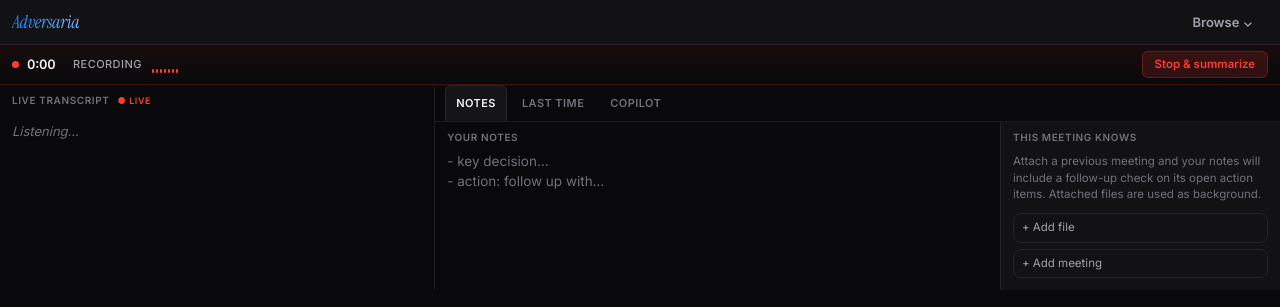
Folder web checkbox › disabled without folder, off by default
Click the tab "Last time" at (553, 103), box [511,85,595,121]
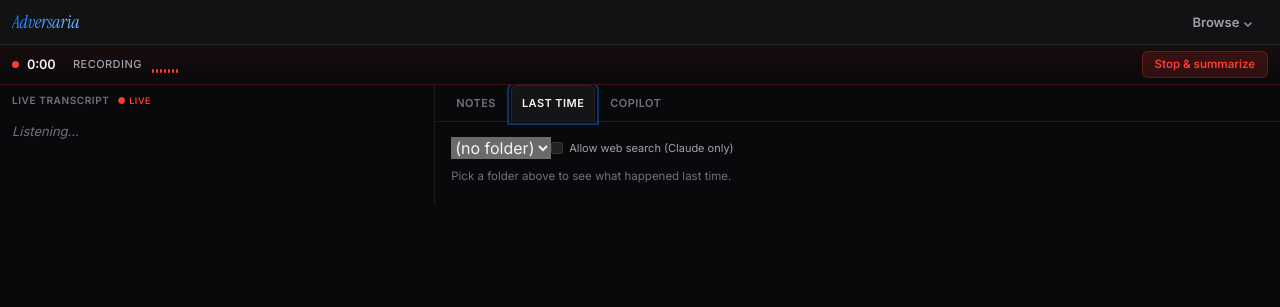
Check: the checkbox labelled "Allow web search (Claude only)" is disabled, box [551,142,563,154]
Check: the checkbox labelled "Allow web search (Claude only)" is not checked, box [551,142,563,154]
